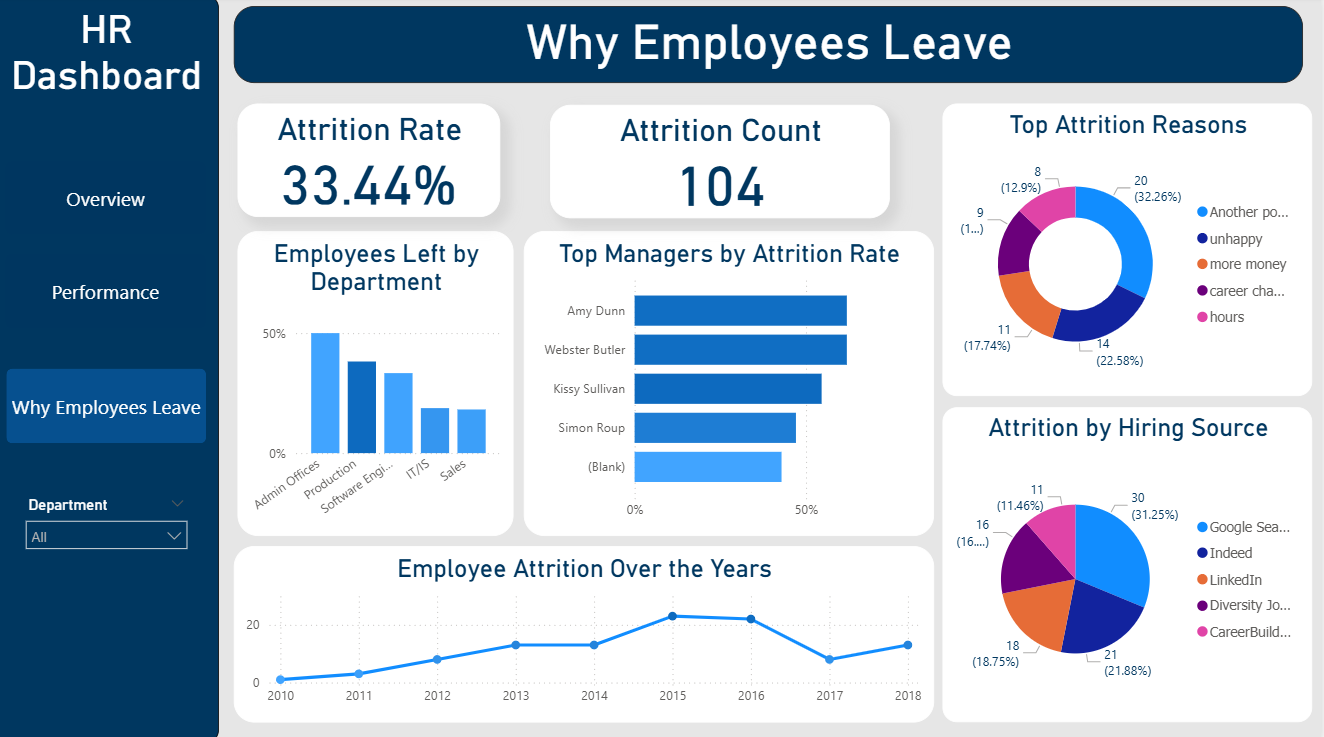

What the dashboard file says about the page in this screenshot:
{"tool":"powerbi","page":{"name":"Why Employees Leave","canvas":[1280,720],"ordinal":2},"visuals":[{"type":"textbox","box":[0,0,216,720],"z":0},{"type":"actionButton","box":[10.9,359.5,193,72.4],"z":1000},{"type":"actionButton","box":[9.7,159.3,194.2,71.2],"z":2000},{"type":"actionButton","box":[9.7,248.5,194.2,72.4],"z":3000},{"type":"textbox","title":"Why Employees Leave","box":[229.9,9.8,1032.1,74.6],"z":4000},{"type":"columnChart","title":"Employees Left by Department","fields":{"Category":["Department.Department"],"Y":["All_Measures.Attrition Rate"]},"box":[234,226.8,266.6,294.4],"z":5000},{"type":"barChart","title":"Top Managers by Attrition Rate","fields":{"Category":["Manager.ManagerName"],"Y":["All_Measures.Attrition Rate"]},"box":[510.3,226.8,395.7,294.4],"z":6000},{"type":"pieChart","title":"Attrition by Hiring Source","fields":{"Category":["EmployeeDetails.RecruitmentSource"],"Y":["All_Measures.Terminated Employees"]},"box":[914.5,396.9,357.1,304],"z":7000},{"type":"lineChart","title":"Employee Attrition Over the Years","fields":{"Y":["All_Measures.Terminated Employees"],"Category":["EmployeeFacts.DateofTermination.Variation.Date Hierarchy.Year"]},"box":[230.4,530.8,675.6,170.1],"z":8000},{"type":"slicer","fields":{"Values":["Department.Department"]},"box":[19.3,477.8,176.1,61.5],"z":9000},{"type":"card","title":"Attrition Rate","fields":{"Values":["All_Measures.Attrition Rate"]},"box":[233.7,104.3,253.5,109.7],"z":10000},{"type":"donutChart","title":"Top Attrition Reasons","fields":{"Y":["All_Measures.Terminated Employees"],"Category":["HRDataset_v14.TermReason"]},"box":[914.5,103.8,357.1,282.3],"z":11000},{"type":"card","title":"Attrition Count","fields":{"Values":["All_Measures.Terminated Employees"]},"box":[535.7,105,328.2,109.8],"z":12000}]}

Visuals, with their boxes on the page's 1280x720 design canvas (x1, y1, x2, y2). These are canvas units, not pixel positions in the 1324x737 screenshot, which may show the page scaled, cropped or inside an application window:
textbox: l=0, t=0, r=216, b=720
actionButton: l=11, t=360, r=204, b=432
actionButton: l=10, t=159, r=204, b=230
actionButton: l=10, t=248, r=204, b=321
"Why Employees Leave" textbox: l=230, t=10, r=1262, b=84
"Employees Left by Department" columnChart: l=234, t=227, r=501, b=521
"Top Managers by Attrition Rate" barChart: l=510, t=227, r=906, b=521
"Attrition by Hiring Source" pieChart: l=914, t=397, r=1272, b=701
"Employee Attrition Over the Years" lineChart: l=230, t=531, r=906, b=701
slicer - Department.Department: l=19, t=478, r=195, b=539
"Attrition Rate" card: l=234, t=104, r=487, b=214
"Top Attrition Reasons" donutChart: l=914, t=104, r=1272, b=386
"Attrition Count" card: l=536, t=105, r=864, b=215
